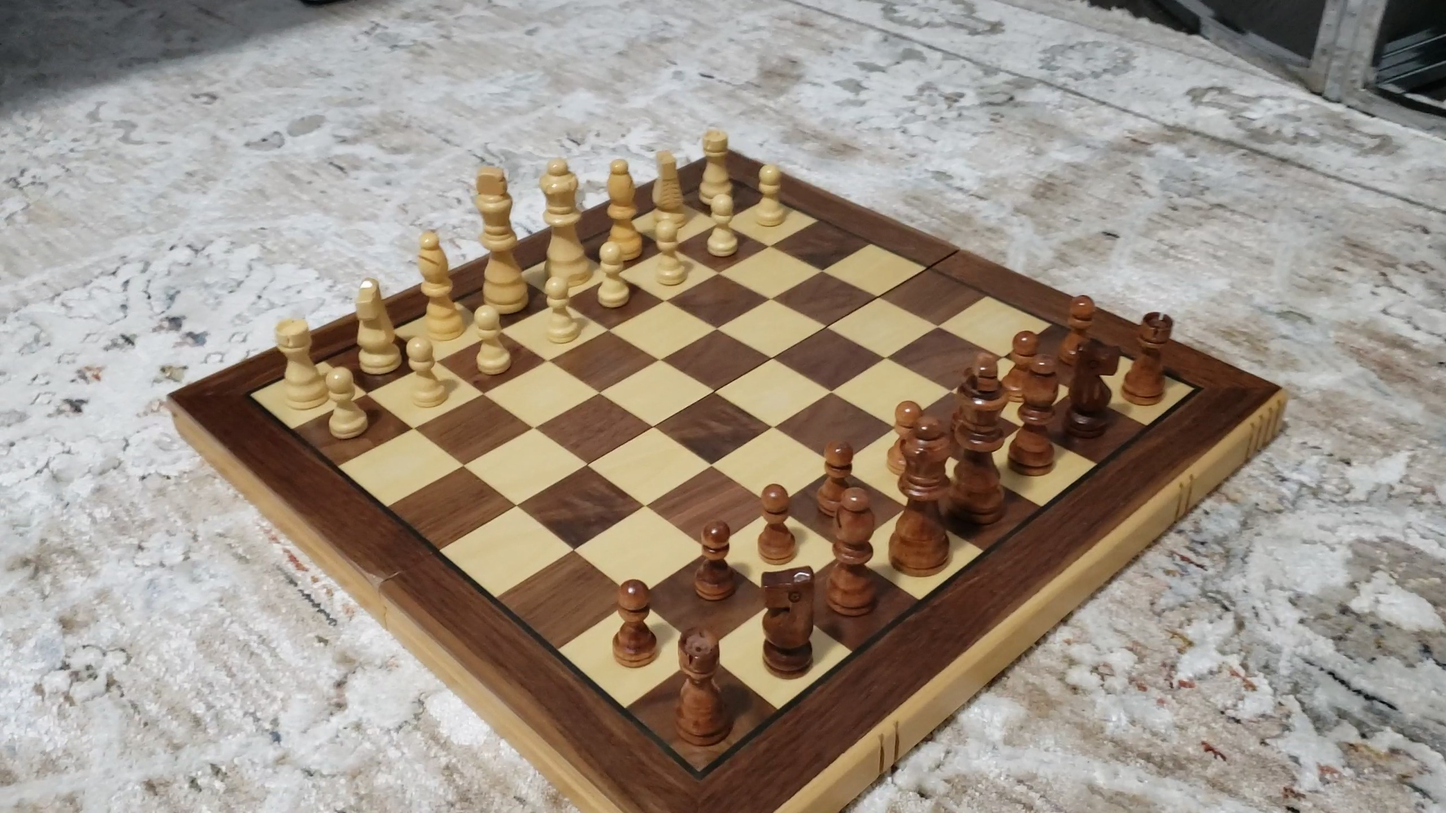black-bishop: (1009, 340, 1064, 475), (825, 485, 880, 617)
black-king: (947, 355, 1017, 525)
black-knight: (758, 562, 819, 680), (1061, 334, 1123, 438)
black-pawn: (609, 576, 659, 669), (692, 517, 738, 603), (1053, 290, 1101, 370), (884, 396, 927, 483), (755, 480, 798, 566), (815, 435, 859, 519)
black-queen: (887, 397, 956, 576)
black-rook: (671, 626, 729, 749), (1121, 309, 1177, 406)
white-bishop: (414, 227, 466, 343), (604, 156, 642, 266)
white-king: (470, 160, 528, 318)
white-knight: (352, 277, 402, 375), (648, 147, 686, 238)
white-pawn: (643, 206, 694, 292), (320, 364, 372, 444), (465, 301, 516, 381), (401, 335, 452, 413), (536, 271, 586, 349), (698, 181, 745, 263), (589, 238, 637, 316), (747, 157, 791, 233)
white-queen: (539, 155, 587, 293)
white-rook: (270, 314, 327, 412), (696, 124, 735, 211)
